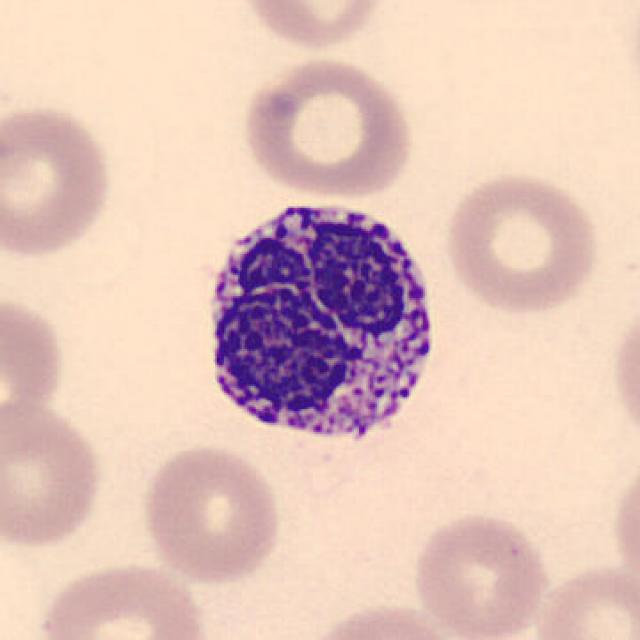Basophil: (188, 185, 452, 466)
RBC: (238, 53, 420, 203), (441, 168, 604, 318), (137, 439, 286, 587), (0, 100, 117, 260), (409, 508, 549, 640), (0, 397, 107, 552), (34, 557, 215, 640), (0, 287, 68, 446), (530, 559, 638, 640), (236, 0, 390, 55), (300, 599, 468, 640), (608, 298, 640, 451), (608, 458, 640, 600)
